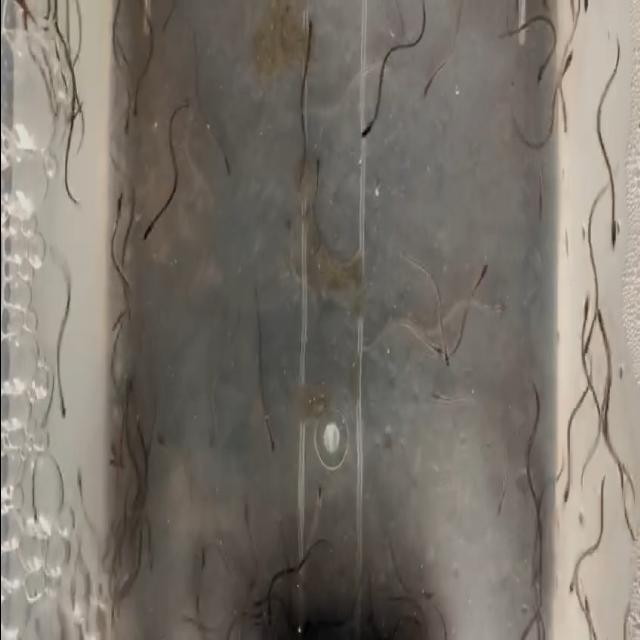active_glass_eel: (488, 286, 511, 358), (118, 90, 144, 152), (172, 583, 200, 640), (104, 186, 128, 234), (353, 108, 375, 158), (432, 331, 461, 361), (296, 22, 318, 59), (413, 75, 435, 111), (527, 58, 548, 94), (306, 483, 332, 511), (256, 432, 284, 458), (556, 472, 576, 508), (418, 582, 442, 612), (279, 212, 295, 256), (308, 156, 327, 190), (560, 38, 575, 81), (575, 292, 591, 332), (50, 389, 68, 424), (422, 385, 440, 419), (176, 91, 193, 127), (606, 214, 624, 247), (237, 500, 254, 534), (477, 250, 495, 282), (524, 178, 546, 204), (223, 144, 237, 182), (562, 564, 578, 597), (590, 306, 605, 339), (488, 499, 503, 526)
